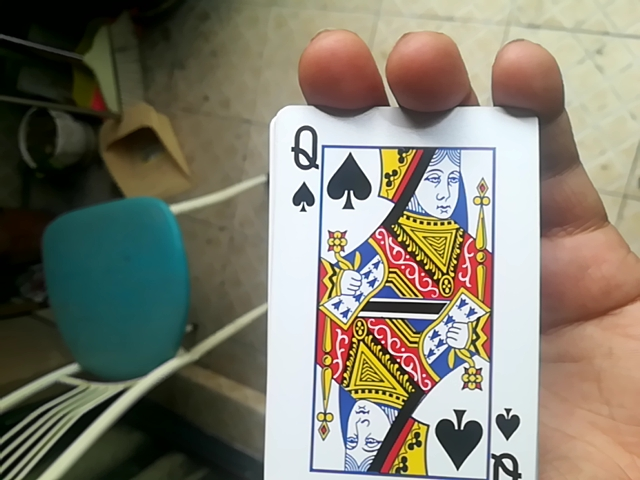ht q: (255, 98, 547, 480)
